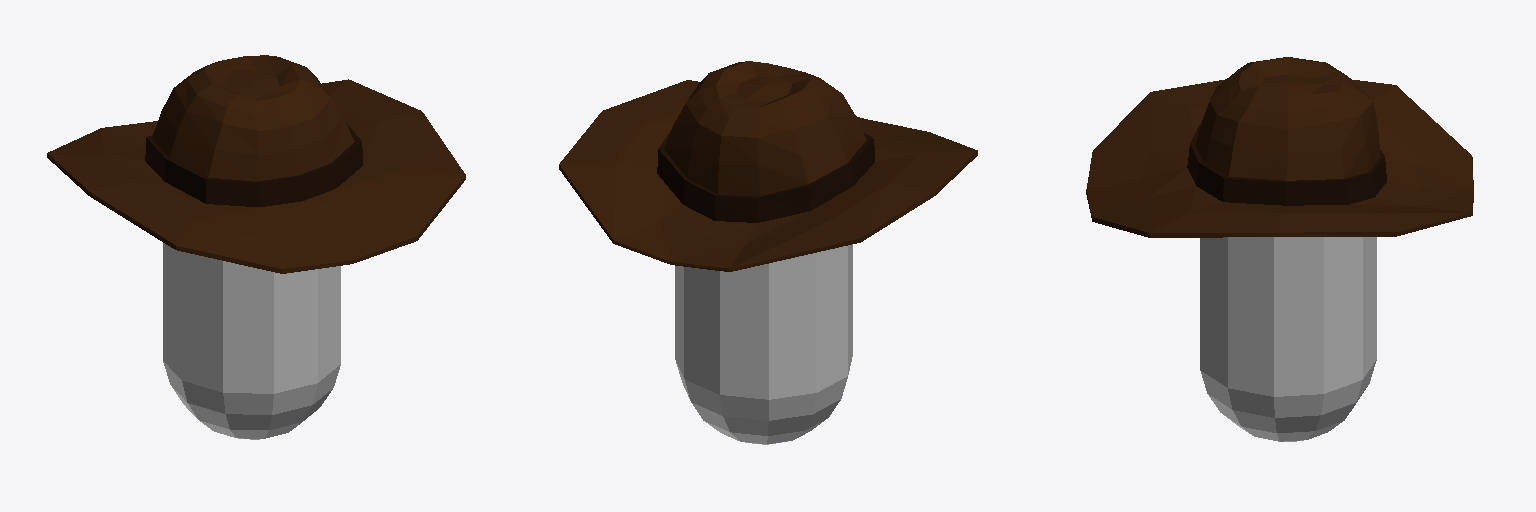
Rendered from Peasant.obj.
The picture shows the model from 3 angles: view 1: azimuth 30°, elevation 25°; view 2: azimuth 150°, elevation 25°; view 3: azimuth 270°, elevation 25°; orthographic projection.
Visible parts, largest first — view 1: Cube.008_Cube.006; view 2: Cube.008_Cube.006; view 3: Cube.008_Cube.006.
Part boxes in pixels (x1,y1,x2,y2): Cube.008_Cube.006: (47, 55, 465, 439); Cube.008_Cube.006: (559, 61, 977, 444); Cube.008_Cube.006: (1086, 57, 1473, 441).
Size of the model in its own units: 3.95 by 4.05 by 3.98.